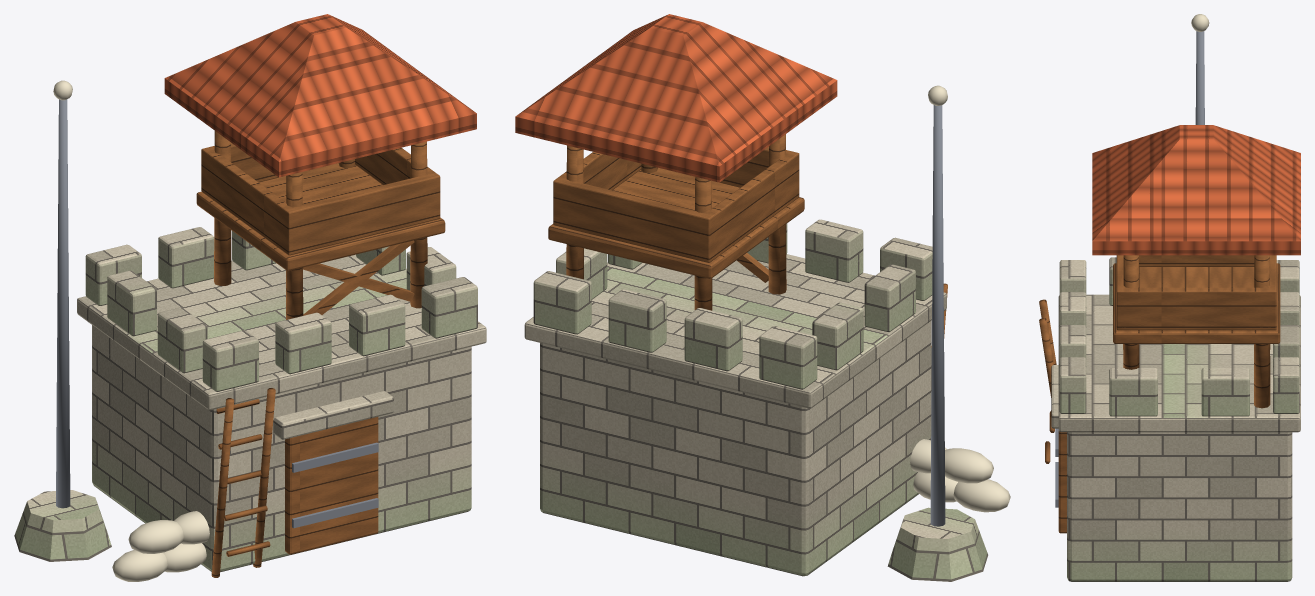
File: map2.glb
3 views of the same model, side by side, from view 1: azimuth 30°, elevation 25°; view 2: azimuth 150°, elevation 25°; view 3: azimuth 270°, elevation 25° (orthographic). The views are drawn at different scales.
Parts seen in each view (by area): view 1: Batch_FortStone, Batch_FortWood, Batch_FortRoof, Batch_FortIron, Batch_Sandbag; view 2: Batch_FortStone, Batch_FortRoof, Batch_FortWood, Batch_FortIron, Batch_Sandbag; view 3: Batch_FortStone, Batch_FortRoof, Batch_FortWood, Batch_FortIron.
Part boxes in pixels (<box>): Batch_FortStone: <box>14,227,486,572</box>; Batch_FortWood: <box>196,131,445,577</box>; Batch_FortRoof: <box>164,14,476,177</box>; Batch_FortIron: <box>56,99,378,528</box>; Batch_Sandbag: <box>53,80,209,581</box>; Batch_FortStone: <box>524,219,988,581</box>; Batch_FortRoof: <box>515,14,837,182</box>; Batch_FortWood: <box>548,134,947,347</box>; Batch_FortIron: <box>930,105,945,526</box>; Batch_Sandbag: <box>910,85,1010,512</box>; Batch_FortStone: <box>1051,257,1300,581</box>; Batch_FortRoof: <box>1092,125,1300,255</box>; Batch_FortWood: <box>1039,255,1280,533</box>; Batch_FortIron: <box>1055,31,1204,507</box>.
Size of the model in its own units: 3.46 by 3.83 by 2.16.
Materials: 6 (3 with a texture image).
